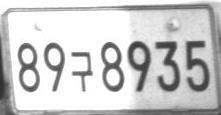3: (154, 40, 181, 92)
5: (184, 39, 210, 92)
8: (100, 41, 125, 92), (16, 41, 40, 92)
9: (127, 40, 151, 92), (43, 41, 66, 92)
구: (70, 51, 93, 91)
